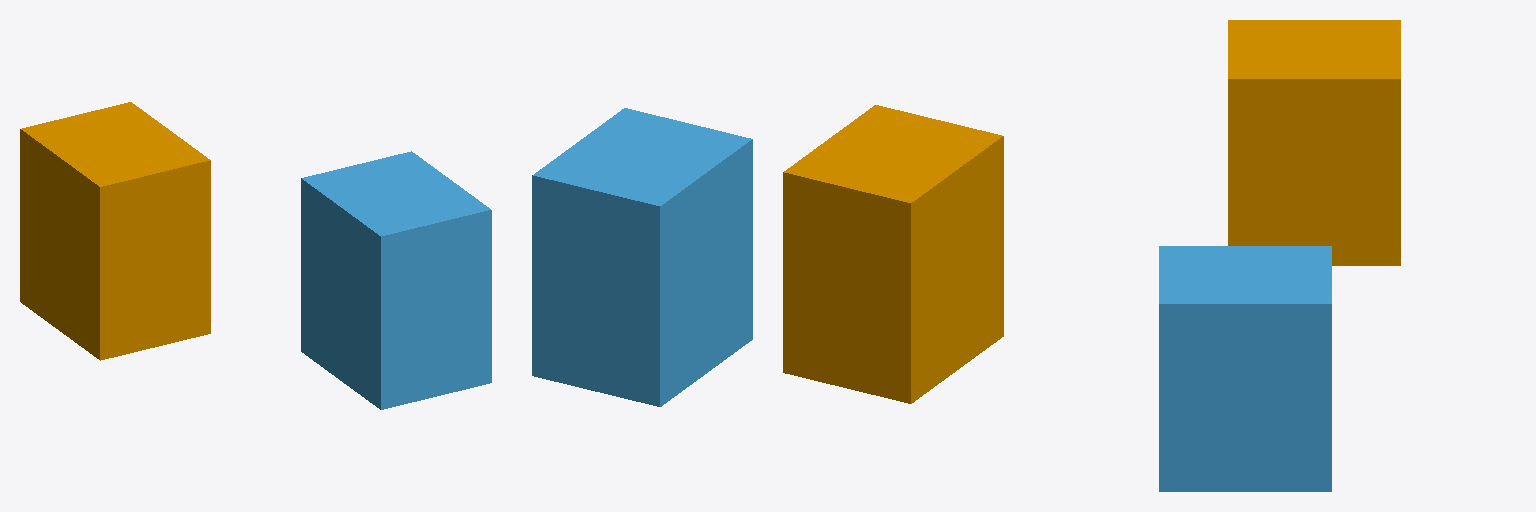
robot.urdf — visual_without_collision:
<?xml version="1.0"?>
<!--
  Two links whose declarations differ only in whether they carry a collision element, so a
  parser reading them can be told apart by what it does with the one that has none.
-->
<robot name="visual_without_collision">
  <link name="visual_only">
    <visual>
      <origin xyz="0.1 0.2 0.3" rpy="0 0 0"/>
      <geometry>
        <box size="0.4 0.5 0.6"/>
      </geometry>
    </visual>
  </link>
  <link name="visual_and_collision">
    <visual>
      <origin xyz="0 0 0" rpy="0 0 0"/>
      <geometry>
        <box size="0.4 0.5 0.6"/>
      </geometry>
    </visual>
    <collision>
      <origin xyz="0 0 0" rpy="0 0 0"/>
      <geometry>
        <box size="0.7 0.8 0.9"/>
      </geometry>
    </collision>
  </link>
  <joint name="visual_only_to_visual_and_collision" type="fixed">
    <parent link="visual_only"/>
    <child link="visual_and_collision"/>
    <origin xyz="1 0 0" rpy="0 0 0"/>
  </joint>
</robot>

--- Facts derived from the render (not from the file) ---
Views: 3 orthographic renders of the robot side by side, from view 1: azimuth 30°, elevation 25°; view 2: azimuth 150°, elevation 25°; view 3: azimuth 270°, elevation 25°.
Model visual_without_collision with 2 links and 1 joints (1 fixed), rooted at visual_only, posed every joint at zero.
Links seen in each view (by area): view 1: visual_only, visual_and_collision; view 2: visual_only, visual_and_collision; view 3: visual_and_collision, visual_only.
Link boxes in pixels (bbox=[...]): visual_only: bbox=[20, 102, 210, 360]; visual_and_collision: bbox=[301, 151, 491, 409]; visual_only: bbox=[783, 105, 1003, 403]; visual_and_collision: bbox=[532, 108, 752, 406]; visual_and_collision: bbox=[1159, 246, 1331, 491]; visual_only: bbox=[1228, 20, 1400, 265].
Size in the robot's own frame: 1.3 by 0.7 by 0.9 metres.
Geometry: primitives only (box / cylinder / sphere), no mesh files.
